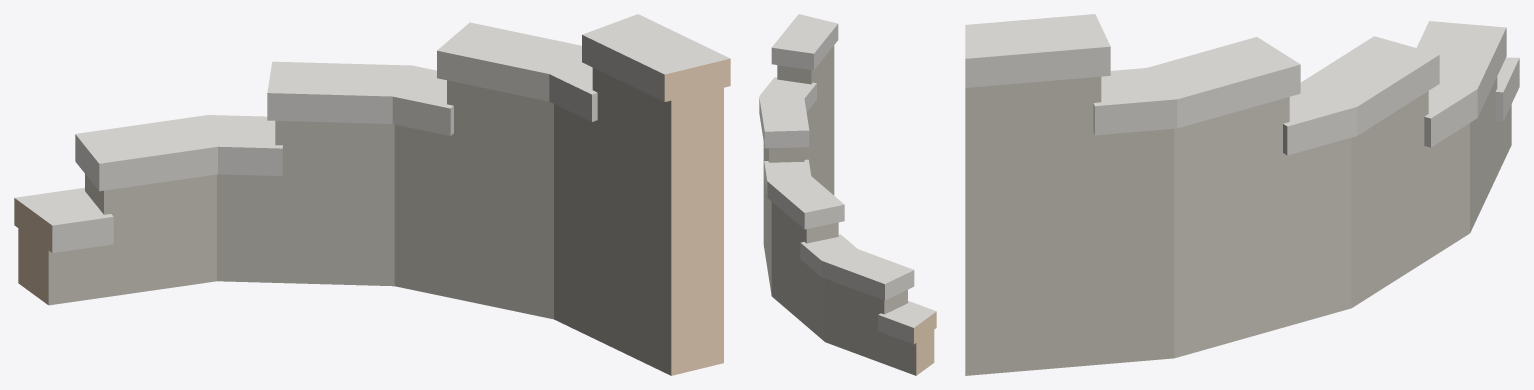
Rendered from Tiered_Retaining_Wall_Stepped_Curve_Short_2x2.glb.
3 views of the same model, side by side, from view 1: azimuth 30°, elevation 25°; view 2: azimuth 150°, elevation 25°; view 3: azimuth 270°, elevation 25° (orthographic). The views are drawn at different scales.
Parts seen in each view (by area): view 1: Tiered_Retaining_Wall_Stepped_Curve_Short_2x2; view 2: Tiered_Retaining_Wall_Stepped_Curve_Short_2x2; view 3: Tiered_Retaining_Wall_Stepped_Curve_Short_2x2.
Part boxes in pixels (x1,y1,x2,y2): Tiered_Retaining_Wall_Stepped_Curve_Short_2x2: (14, 14, 730, 375); Tiered_Retaining_Wall_Stepped_Curve_Short_2x2: (759, 14, 936, 375); Tiered_Retaining_Wall_Stepped_Curve_Short_2x2: (965, 14, 1519, 375).
Size of the model in its own units: 216 by 138 by 216.
